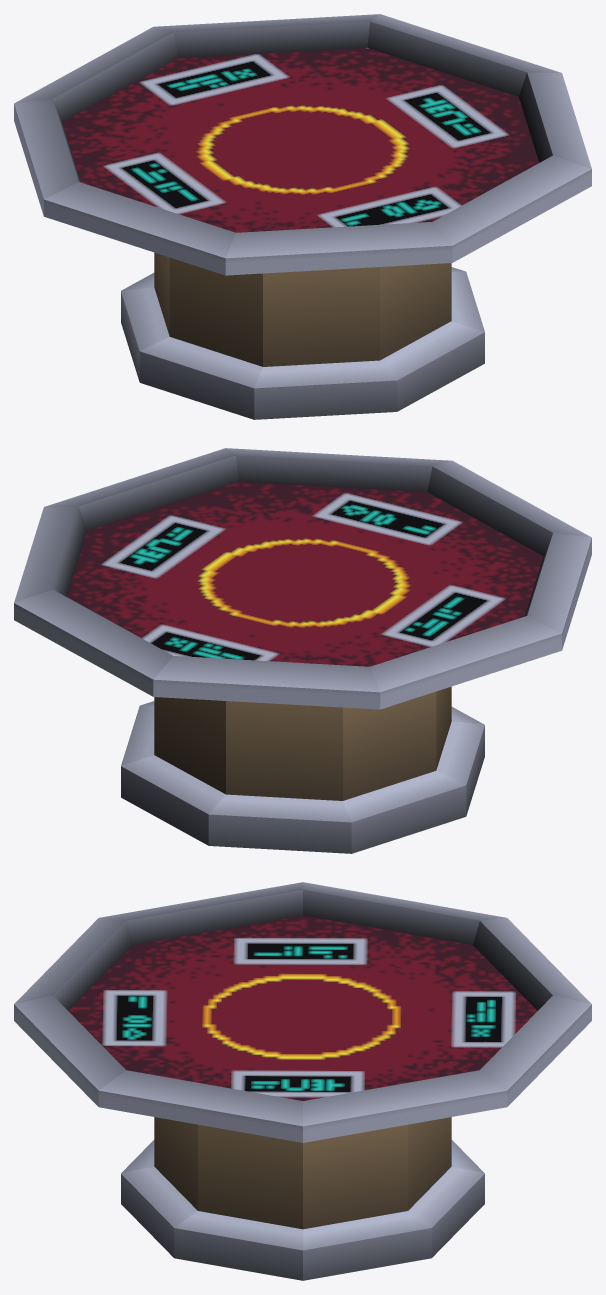
File: BigTable.fbx
3 views of the same model, one above another, from view 1: azimuth 30°, elevation 25°; view 2: azimuth 150°, elevation 25°; view 3: azimuth 270°, elevation 25° (orthographic). The views are drawn at different scales.
Visible parts, largest first — view 1: Окружность.015; view 2: Окружность.015; view 3: Окружность.015.
Boxes of the visible parts, <box> form: Окружность.015: <box>14,14,591,419</box>; Окружность.015: <box>14,448,591,853</box>; Окружность.015: <box>14,882,591,1280</box>.
Size of the model in its own units: 244 by 97.13 by 244.
